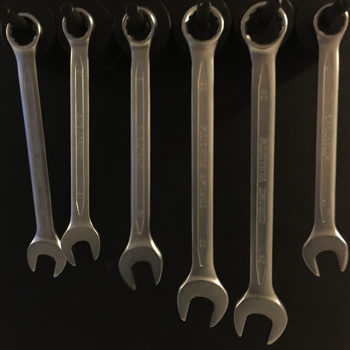bottom: (232, 290, 288, 344), (175, 274, 229, 328), (116, 242, 165, 292), (300, 229, 348, 278), (25, 234, 69, 278), (58, 222, 101, 265)
top: (237, 1, 290, 55), (180, 3, 226, 51), (3, 10, 44, 55), (311, 0, 350, 47), (119, 6, 159, 47), (59, 6, 96, 45)
